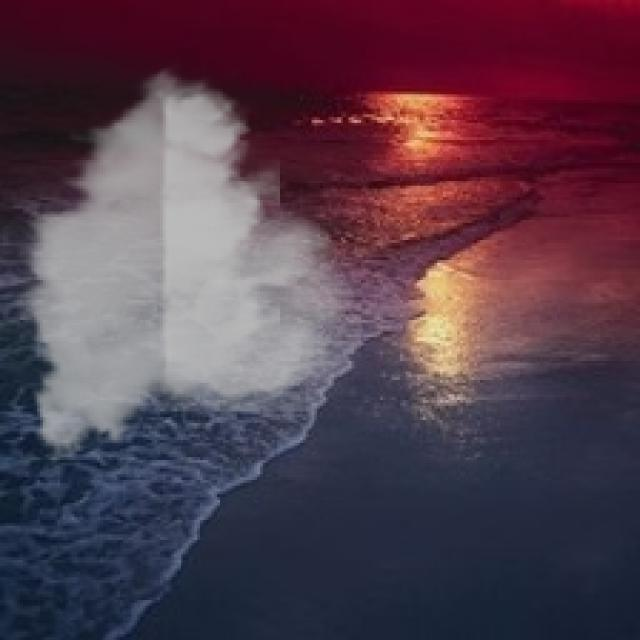Smoke: (11, 57, 360, 474)
